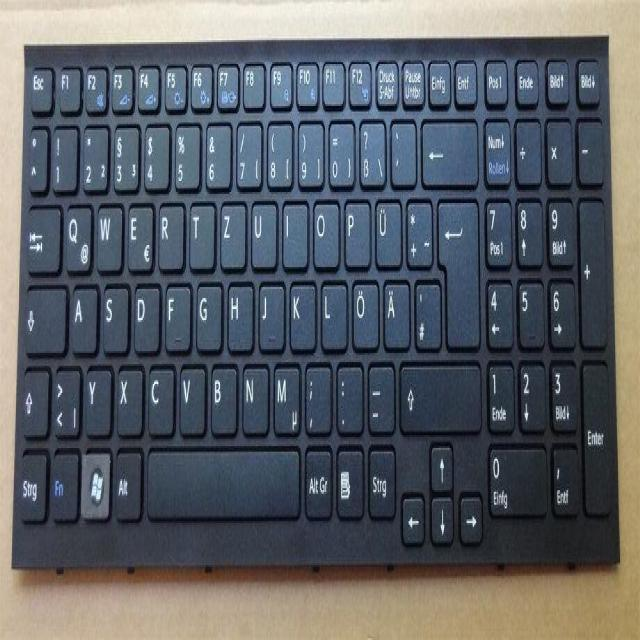0: (326, 113, 353, 185)
1: (49, 119, 76, 188)
2: (80, 119, 106, 186)
3: (111, 119, 138, 186)
4: (142, 117, 168, 187)
5: (172, 117, 198, 187)
6: (203, 115, 230, 185)
7: (234, 115, 260, 185)
8: (264, 115, 291, 185)
9: (295, 113, 322, 185)
a: (68, 278, 96, 349)
accent: (387, 113, 414, 181)
ae: (381, 273, 408, 346)
alt-left: (111, 441, 140, 518)
altgr-right: (302, 441, 330, 516)
b: (207, 358, 235, 430)
c: (146, 359, 173, 432)
caret: (26, 121, 45, 188)
comma: (302, 357, 330, 430)
d: (131, 278, 158, 349)
del: (419, 111, 475, 183)
e: (125, 197, 152, 269)
enter: (435, 192, 477, 346)
f: (163, 278, 188, 347)
g: (193, 275, 220, 348)
h: (225, 276, 251, 348)
hash: (412, 273, 439, 346)
i: (280, 194, 306, 265)
j: (256, 274, 282, 346)
k: (287, 275, 314, 348)
keyboard: (8, 24, 620, 574)
l: (318, 275, 345, 348)
less: (51, 359, 79, 434)
m: (271, 357, 298, 432)
minus: (365, 357, 393, 430)
n: (240, 357, 267, 430)
o: (310, 194, 337, 265)
oe: (350, 273, 377, 346)
p: (342, 192, 368, 263)
plus: (404, 192, 431, 263)
point: (334, 355, 361, 430)
q: (63, 197, 90, 269)
r: (155, 196, 182, 267)
s: (100, 278, 127, 349)
shift-left: (19, 361, 47, 434)
shift-lock: (22, 278, 64, 349)
shift-right: (397, 353, 480, 428)
space: (144, 439, 298, 517)
ss: (356, 113, 383, 183)
strg-left: (16, 443, 46, 518)
strg-right: (365, 439, 394, 514)
t: (187, 196, 212, 265)
tab: (25, 198, 59, 271)
u: (248, 194, 275, 265)
ue: (372, 192, 400, 265)
v: (177, 359, 203, 432)
w: (94, 196, 120, 267)
x: (114, 359, 141, 434)
y: (83, 361, 109, 434)
z: (218, 194, 244, 267)
